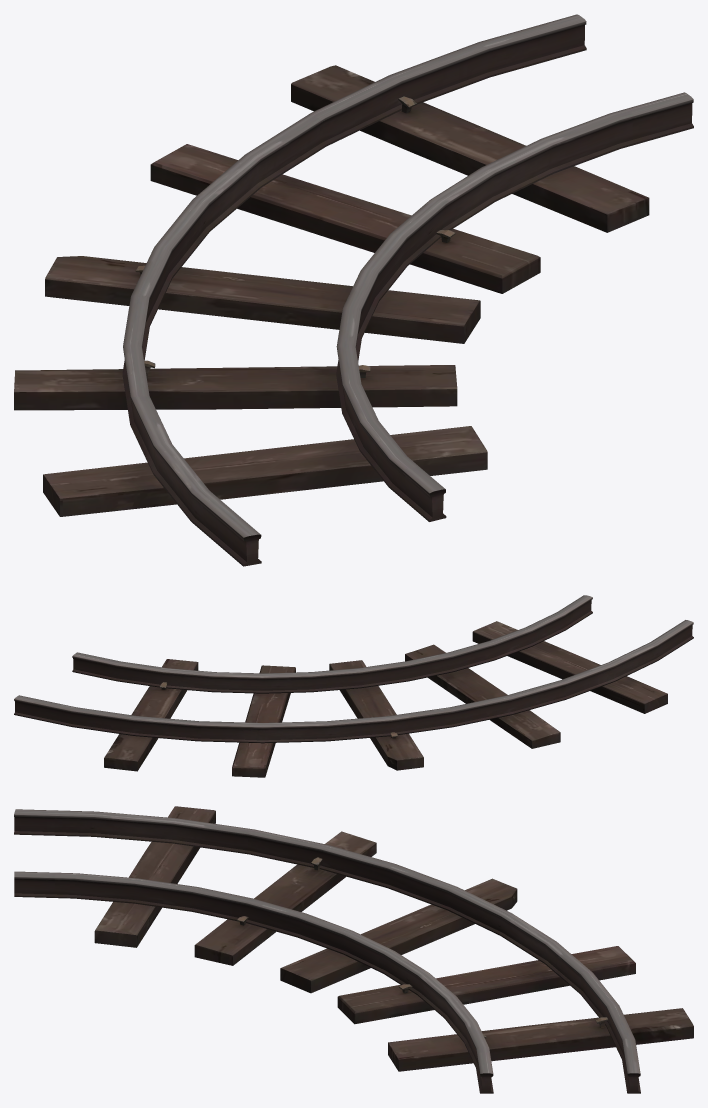
3 views of the same model, one above another, from view 1: azimuth 30°, elevation 25°; view 2: azimuth 150°, elevation 25°; view 3: azimuth 270°, elevation 25° (orthographic). The views are drawn at different scales.
Visible parts, largest first — view 1: body0_model0_lod0_mesh0; view 2: body0_model0_lod0_mesh0; view 3: body0_model0_lod0_mesh0.
Boxes of the visible parts, x1,y1,x2,y2 form: body0_model0_lod0_mesh0: (14,14,693,566); body0_model0_lod0_mesh0: (14,595,693,777); body0_model0_lod0_mesh0: (14,806,693,1093).
Bounding box in the file's own units: 125 × 6.71 × 125.
Materials: 1 (1 with a texture image).
